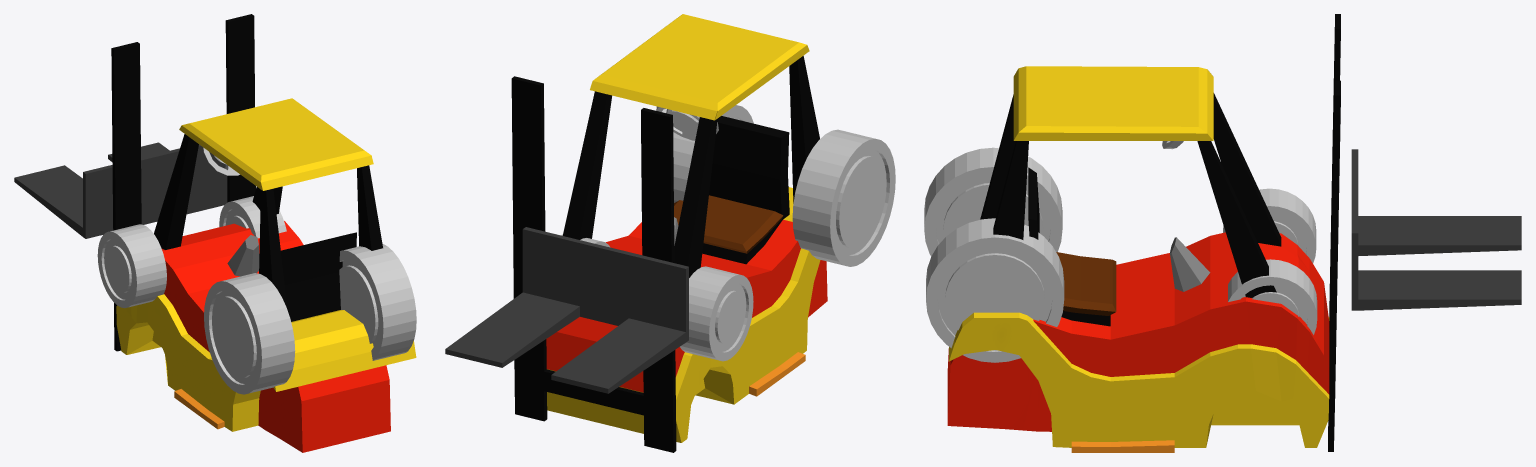
The model's file is Forklift_Body.fbx.
3 renders of one model, left to right at view 1: azimuth 30°, elevation 25°; view 2: azimuth 150°, elevation 25°; view 3: azimuth 270°, elevation 25°, orthographic. The views are drawn at different scales.
Visible parts, largest first — view 1: ForkBody, Cylinder.001, ForkLifter, Cylinder, Cylinder.003, Cylinder.002; view 2: ForkBody, ForkLifter, Cylinder.001, Cylinder.003, Cylinder, Cylinder.004; view 3: ForkBody, ForkLifter, Cylinder, Cylinder.001, Cylinder.002, Cylinder.003.
Boxes of the visible parts, <box> form: ForkBody: <box>111,14,416,452</box>; Cylinder.001: <box>204,273,295,394</box>; ForkLifter: <box>14,142,227,238</box>; Cylinder: <box>339,243,416,360</box>; Cylinder.003: <box>97,224,166,308</box>; Cylinder.002: <box>219,196,286,238</box>; ForkBody: <box>511,14,827,452</box>; ForkLifter: <box>445,227,688,393</box>; Cylinder.001: <box>792,129,895,266</box>; Cylinder.003: <box>680,266,753,361</box>; Cylinder: <box>673,105,753,202</box>; Cylinder.004: <box>656,106,718,140</box>; ForkBody: <box>947,14,1340,452</box>; ForkLifter: <box>1351,149,1521,310</box>; Cylinder: <box>926,218,1064,362</box>; Cylinder.001: <box>924,147,1062,256</box>; Cylinder.002: <box>1228,259,1317,334</box>; Cylinder.003: <box>1223,188,1316,263</box>.
Size of the model in its own units: 330 by 550 by 835.
